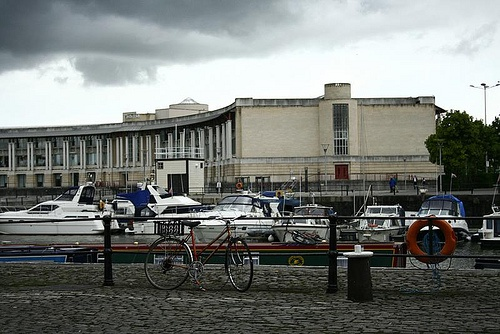non-vehicle: (143, 213, 253, 292), (282, 222, 315, 244)
